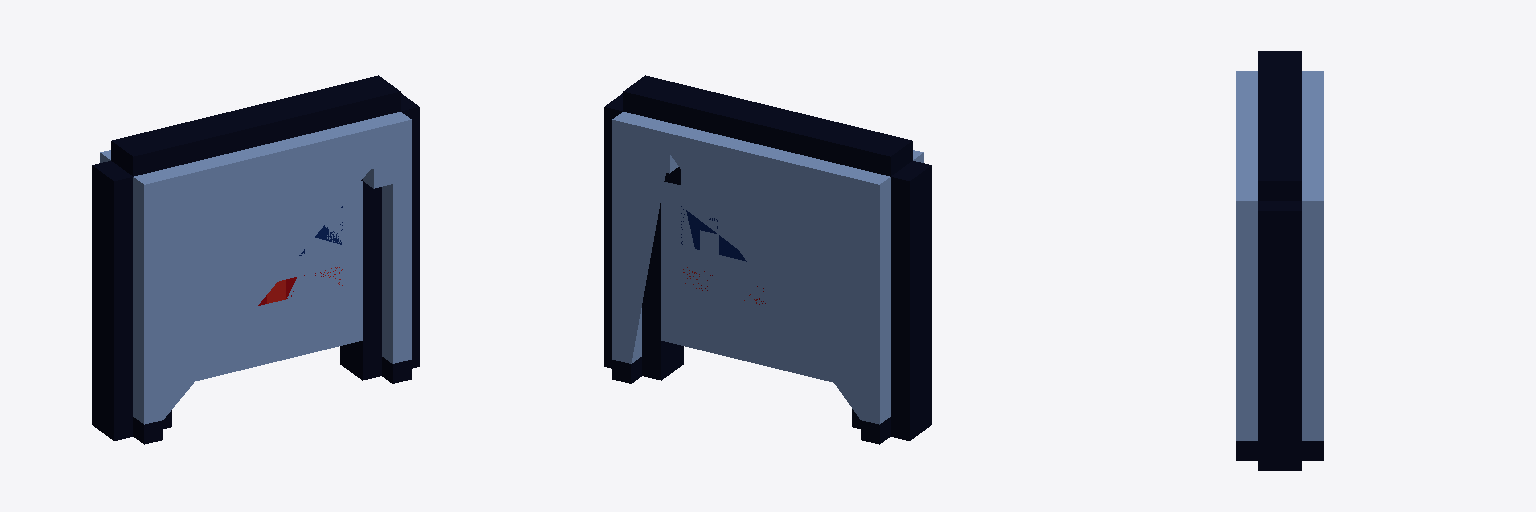
The model's file is MetalSign-1.obj.
The picture shows the model from 3 angles: view 1: azimuth 30°, elevation 25°; view 2: azimuth 150°, elevation 25°; view 3: azimuth 270°, elevation 25°; orthographic projection.
Visible parts, largest first — view 1: MetalSign; view 2: MetalSign; view 3: MetalSign.
Boxes of the visible parts, x1=… form: MetalSign: x1=92, y1=75, x2=419, y2=444; MetalSign: x1=604, y1=75, x2=931, y2=444; MetalSign: x1=1236, y1=51, x2=1323, y2=470.
Size of the model in its own units: 0.64 by 0.56 by 0.16.